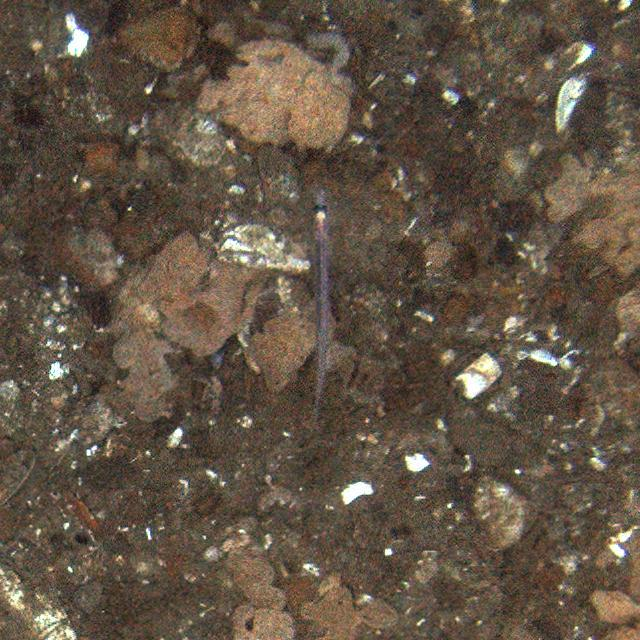roundfish: (310, 191, 329, 423)
